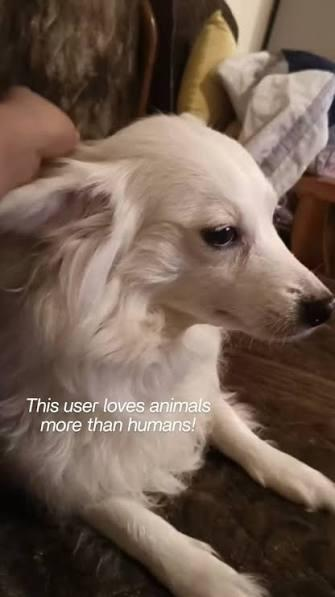adult_dog: (0, 112, 335, 597)
